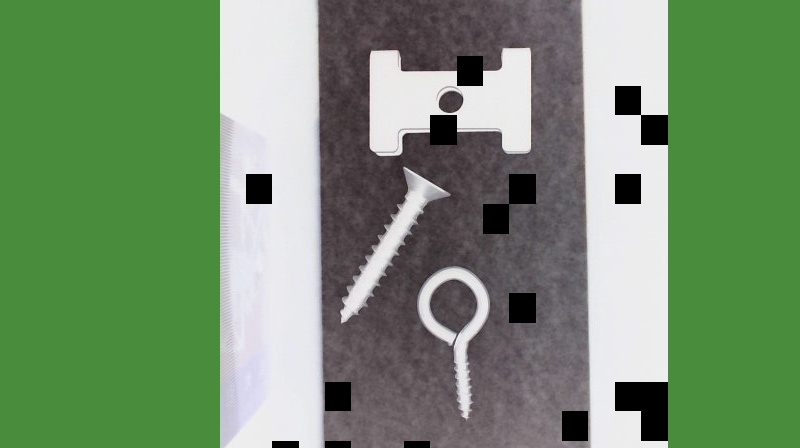O001: (411, 265, 491, 423)
O002: (364, 41, 534, 157)
S001: (336, 165, 453, 325)
